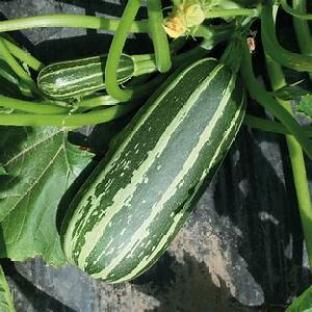Zucchini: (62, 59, 244, 282), (38, 56, 107, 99)
